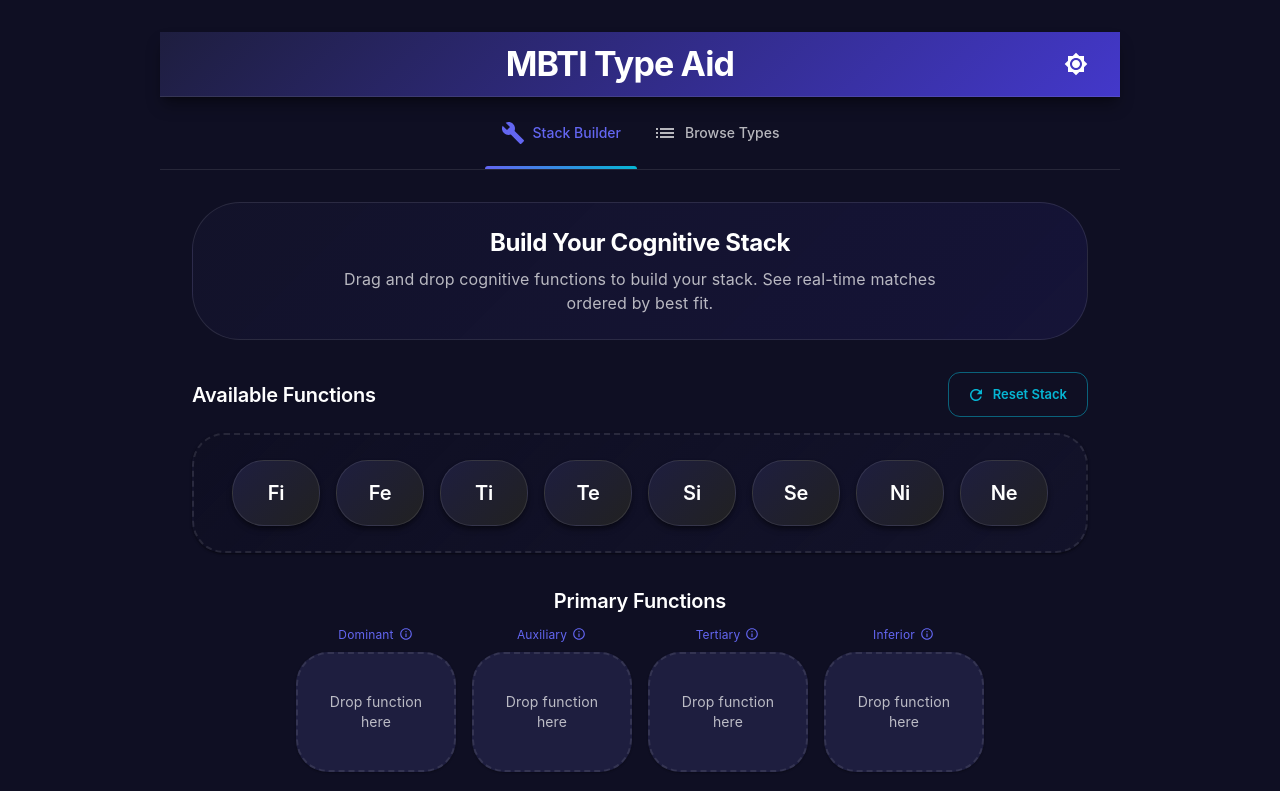
it: App › should show appropriate descriptions for each view
The width and height of the screenshot is (1280, 791).
Expected: the text "Drag and drop cognitive functions to build your stack" is shown, [344,269,936,313]
# Switch to Browse Types
Click the tab "Browse Types" at (716, 133), box [637,97,795,169]
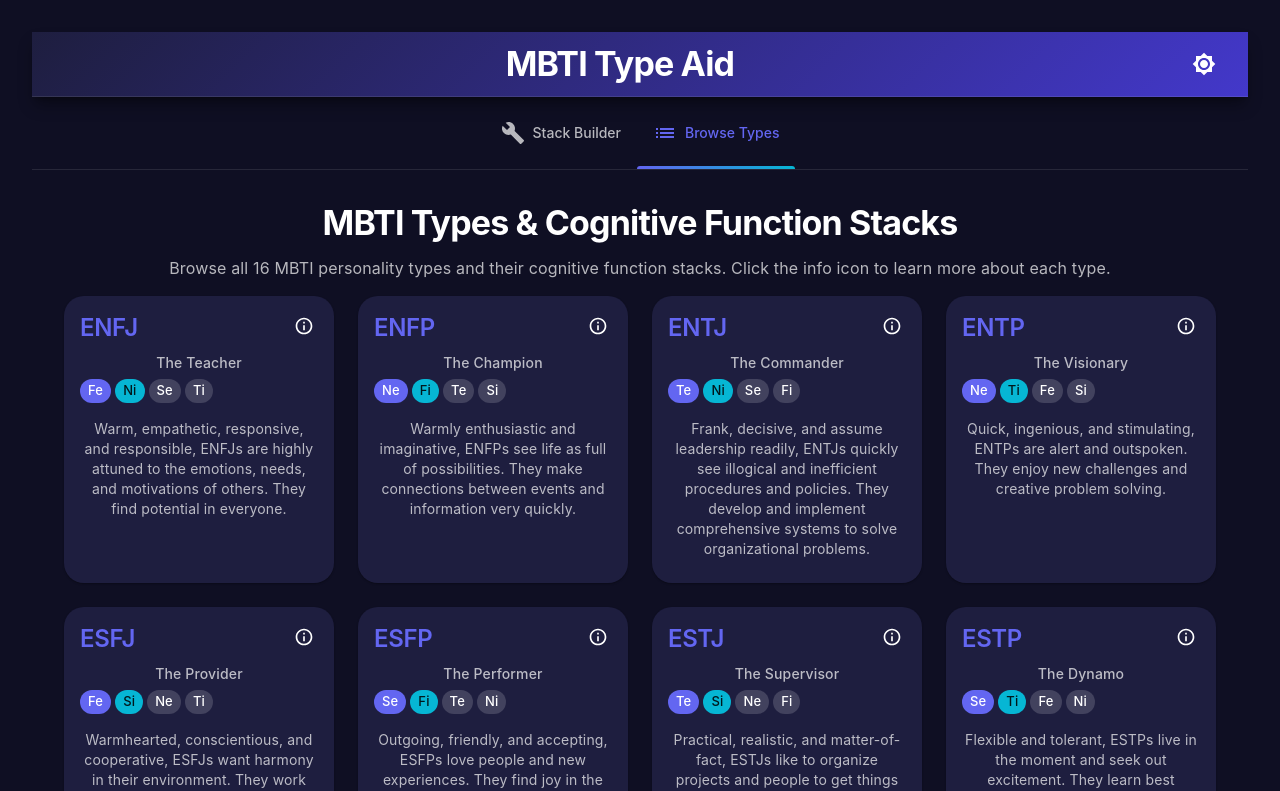
Result: the text "Drag and drop cognitive functions to build your stack" is gone
